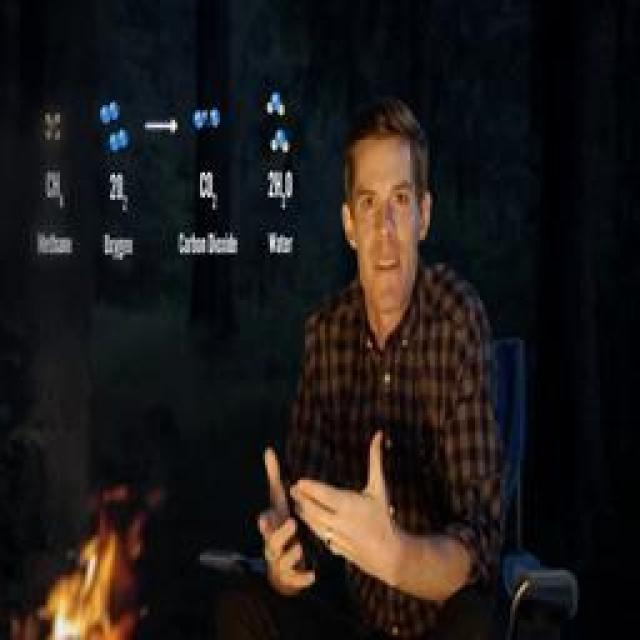Fire: (35, 480, 143, 640)
